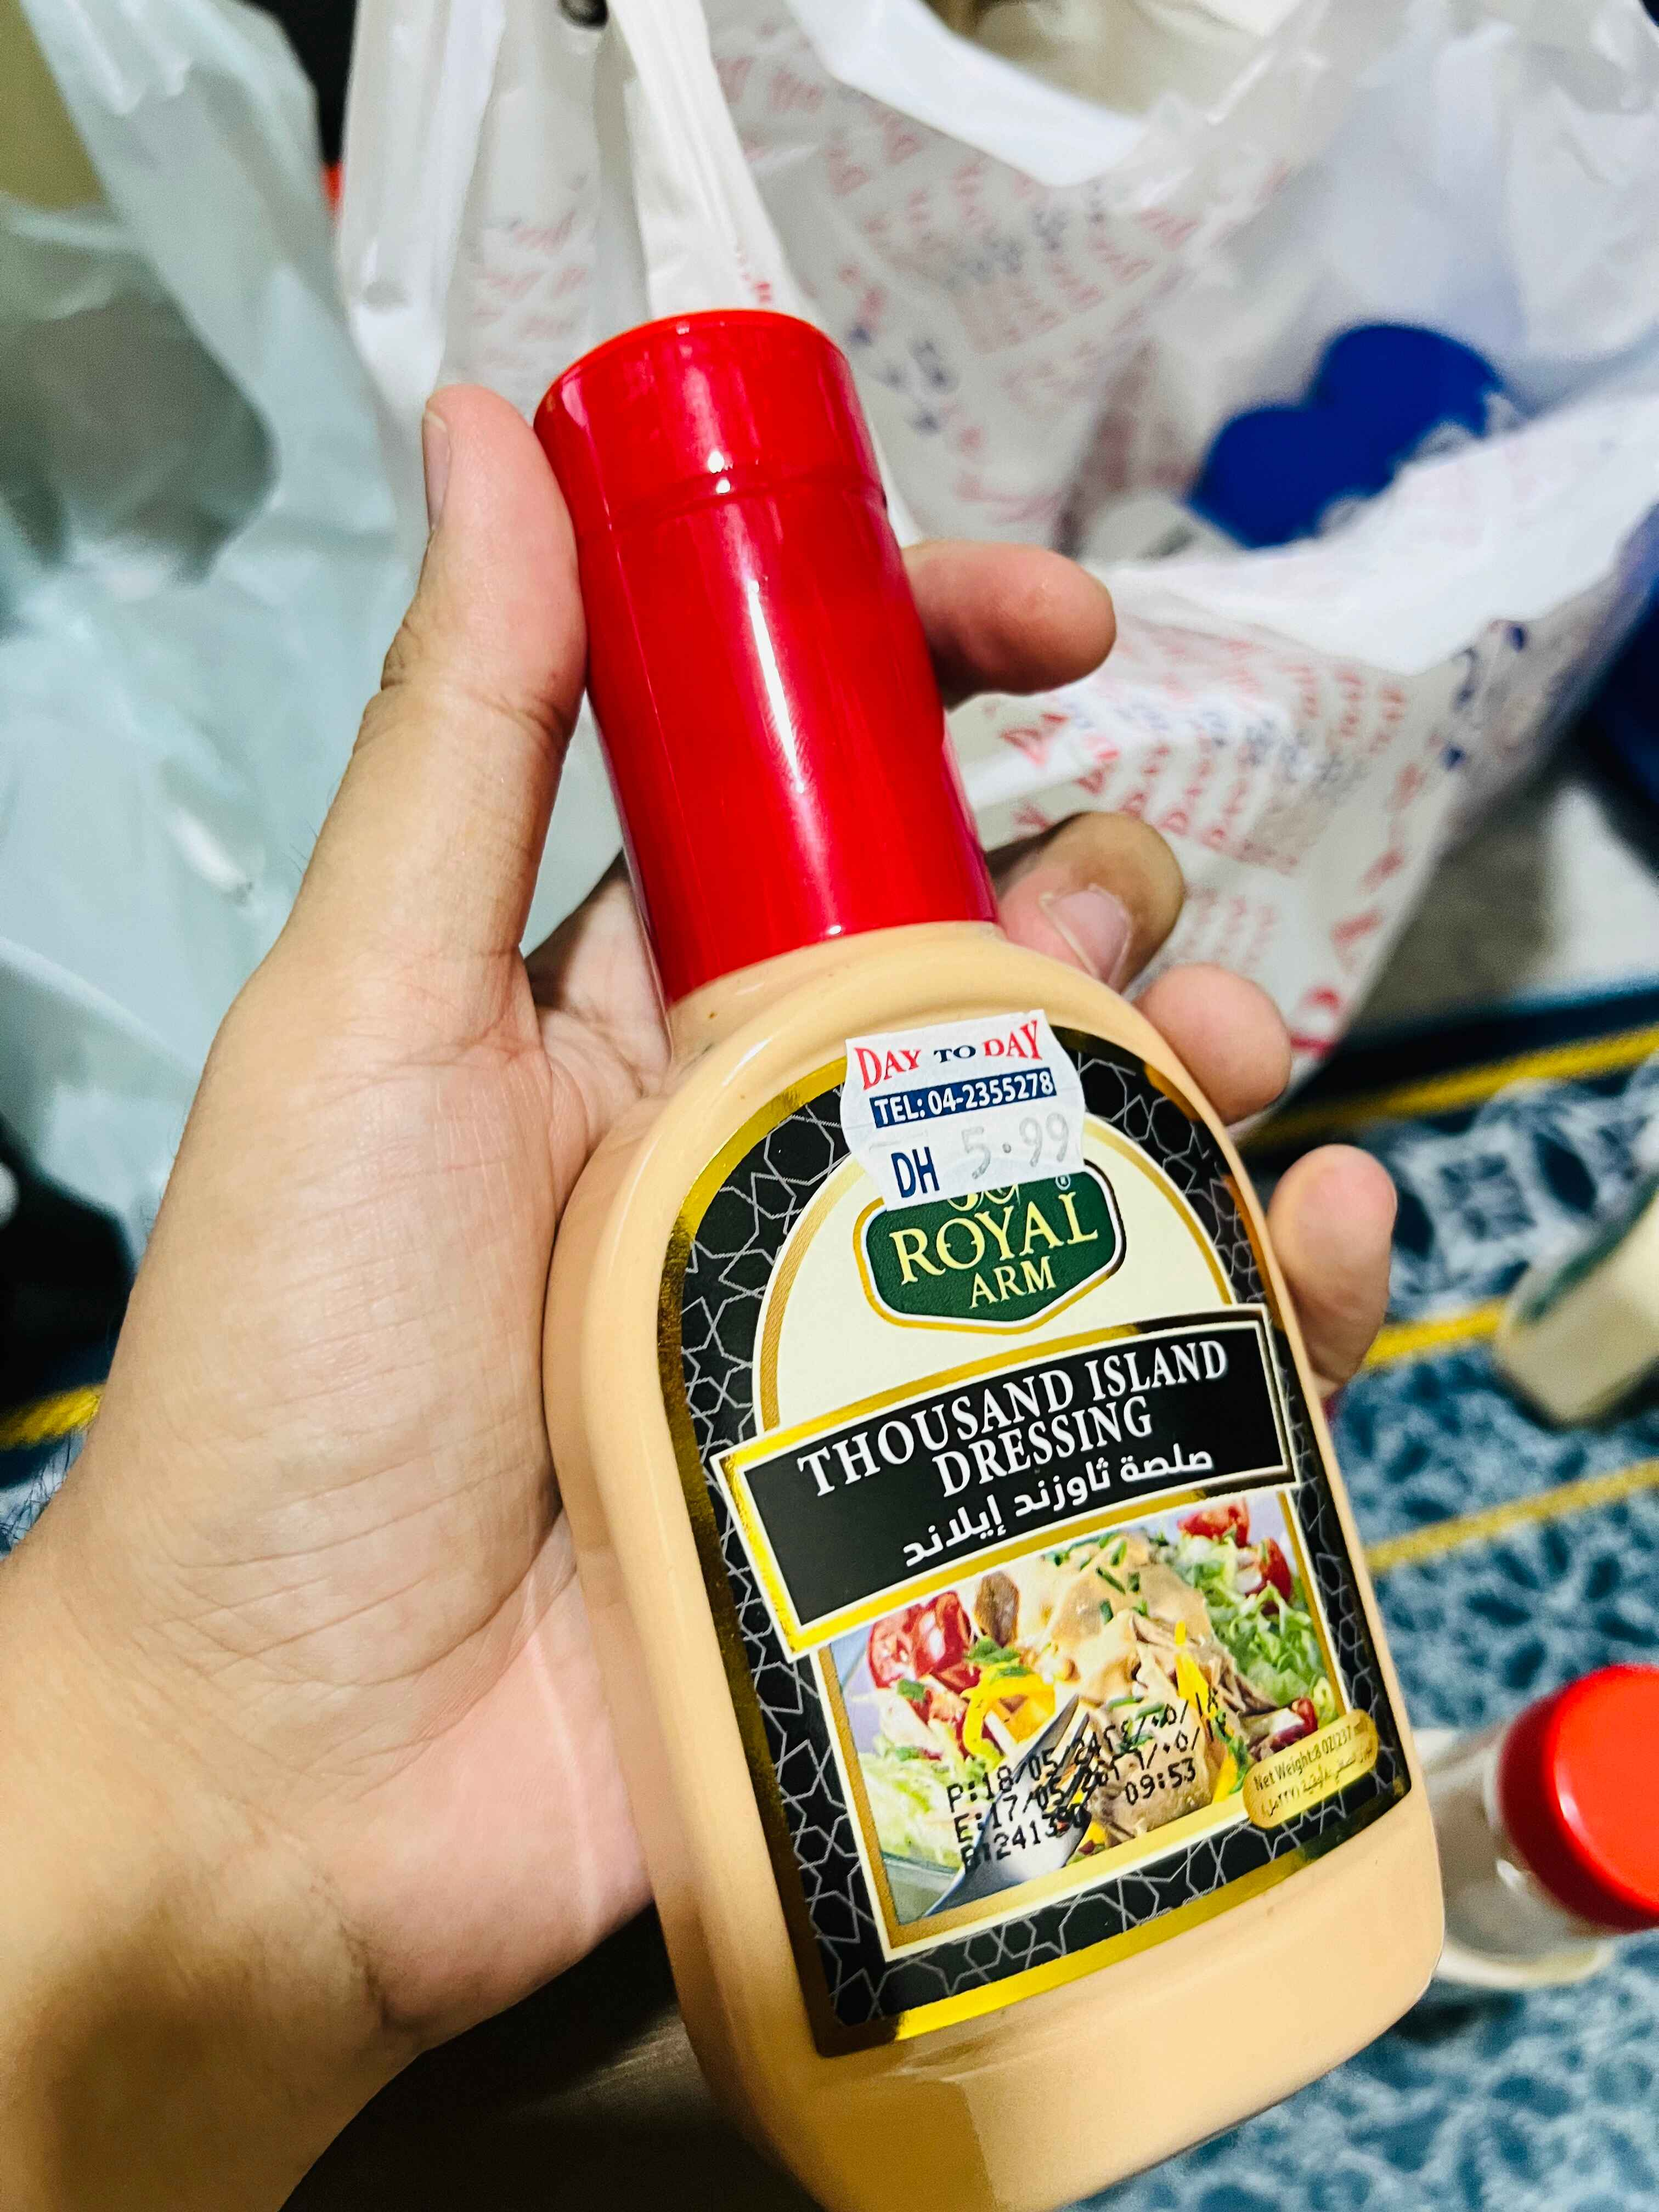PriceTagSmall: (842, 1010, 1101, 1205)
